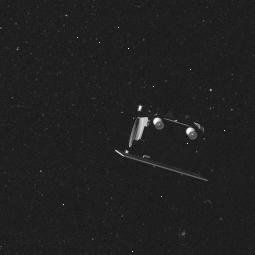proba_3_csc: (104, 91, 226, 196)
